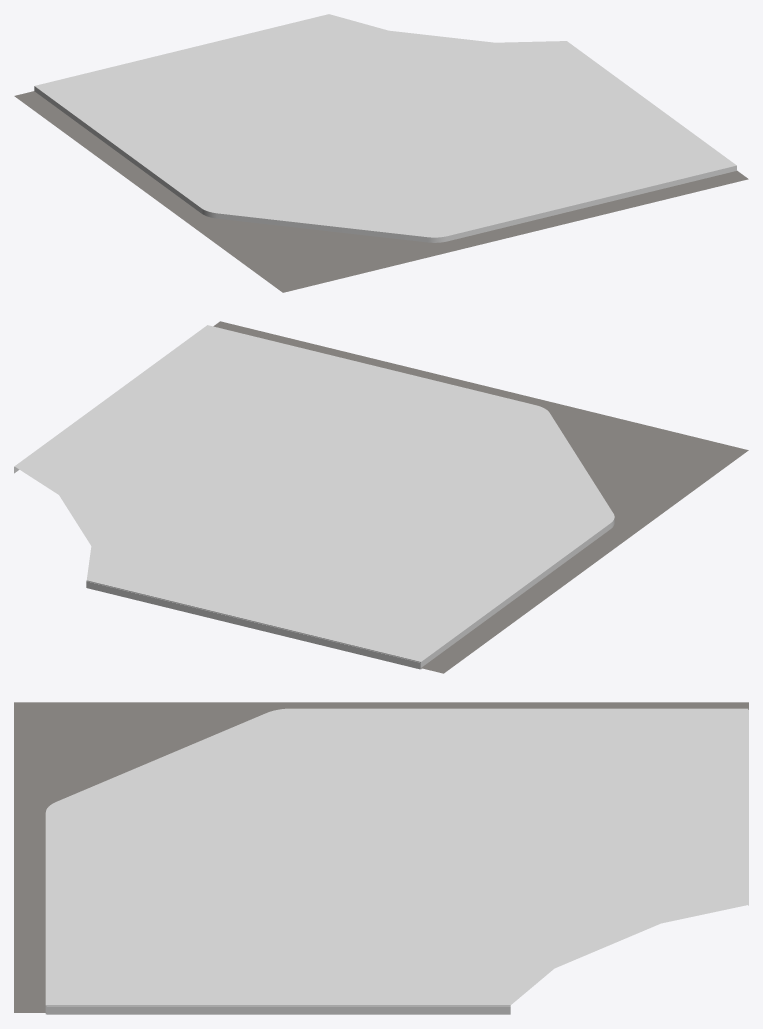
Rendered from MMo_C_001_e_36x36.fbx.
The picture shows the model from 3 angles, top to bottom: view 1: azimuth 30°, elevation 25°; view 2: azimuth 150°, elevation 25°; view 3: azimuth 270°, elevation 25°; orthographic projection. The views are drawn at different scales.
Parts seen in each view (by area): view 1: MMo_C_001_e_36x36; view 2: MMo_C_001_e_36x36; view 3: MMo_C_001_e_36x36.
Boxes of the visible parts, box(x1,y1,x2,y2) form: MMo_C_001_e_36x36: box(14, 14, 748, 292); MMo_C_001_e_36x36: box(14, 321, 748, 673); MMo_C_001_e_36x36: box(14, 702, 748, 1014).
Size of the model in its own units: 37 by 0.5 by 37.
